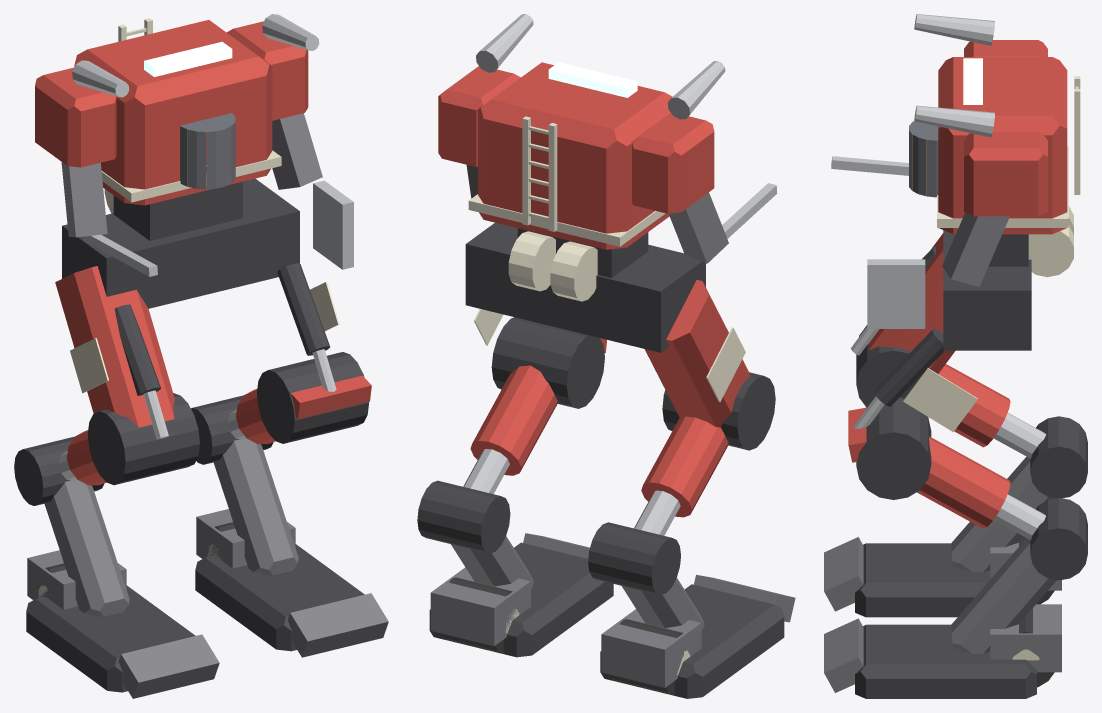
Rendered from pumper.glb.
3 views of the same model, side by side, from view 1: azimuth 30°, elevation 25°; view 2: azimuth 150°, elevation 25°; view 3: azimuth 270°, elevation 25° (orthographic). The views are drawn at different scales.
Visible parts, largest first — view 1: torso, hips, thigh-1, foot1_sole, foot-1_sole, meta-1, meta1, shoulder-1, knee-1, knee1, waist, foot1_toe (+25 smaller); view 2: torso, hips, foot-1_sole, thigh-1, shoulder-1, foot1_sole, knee1, shin1, hock1, hock-1, foot1_housing, foot-1_housing (+24 smaller); view 3: torso, foot1_sole, foot-1_sole, hips, shoulder1, knee1, meta1, shin1, axe_head, hock1, hock-1, meta-1 (+26 smaller).
Boxes of the visible parts, <box> form: torso: <box>74,20,272,205</box>; hips: <box>62,178,299,308</box>; thigh-1: <box>55,266,174,427</box>; foot1_sole: <box>195,544,364,651</box>; foot-1_sole: <box>26,585,195,692</box>; meta-1: <box>44,480,129,617</box>; meta1: <box>213,438,298,576</box>; shoulder-1: <box>35,67,116,167</box>; knee-1: <box>87,393,199,485</box>; knee1: <box>257,352,368,443</box>; waist: <box>113,181,242,240</box>; foot1_toe: <box>288,593,388,657</box>; torso: <box>478,62,672,249</box>; hips: <box>465,222,705,352</box>; foot-1_sole: <box>600,584,784,698</box>; thigh-1: <box>644,280,749,427</box>; shoulder-1: <box>632,113,714,213</box>; foot1_sole: <box>429,542,613,657</box>; knee1: <box>491,317,604,408</box>; shin1: <box>470,365,557,475</box>; hock1: <box>417,480,510,553</box>; hock-1: <box>588,522,680,595</box>; foot1_housing: <box>430,567,530,646</box>; foot-1_housing: <box>601,609,701,687</box>; torso: <box>938,57,1067,234</box>; foot1_sole: <box>855,624,1036,698</box>; foot-1_sole: <box>855,543,1036,617</box>; hips: <box>943,230,1031,350</box>; shoulder1: <box>964,131,1047,216</box>; knee1: <box>856,397,931,499</box>; meta1: <box>951,538,1056,653</box>; shin1: <box>917,437,1010,528</box>; axe_head: <box>867,259,925,328</box>; hock1: <box>1030,498,1087,580</box>; hock-1: <box>1030,416,1087,498</box>; meta-1: <box>951,456,1054,572</box>.
Size of the model in its own units: 11.2 by 23 by 9.57.
